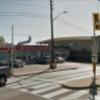crosswalks: (28, 80, 62, 98), (8, 76, 30, 90), (58, 90, 88, 99)
